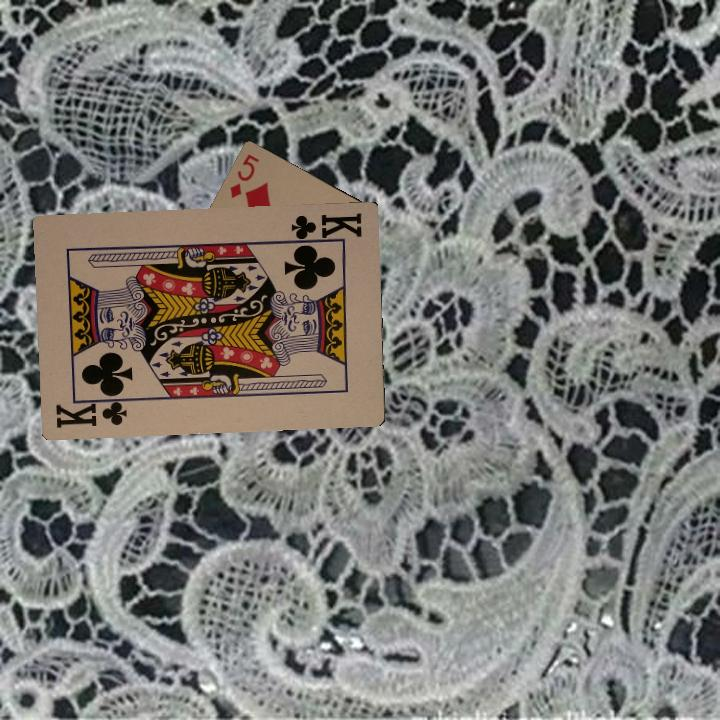5d: (225, 150, 262, 201)
Kc: (49, 394, 133, 431), (285, 209, 365, 246)
